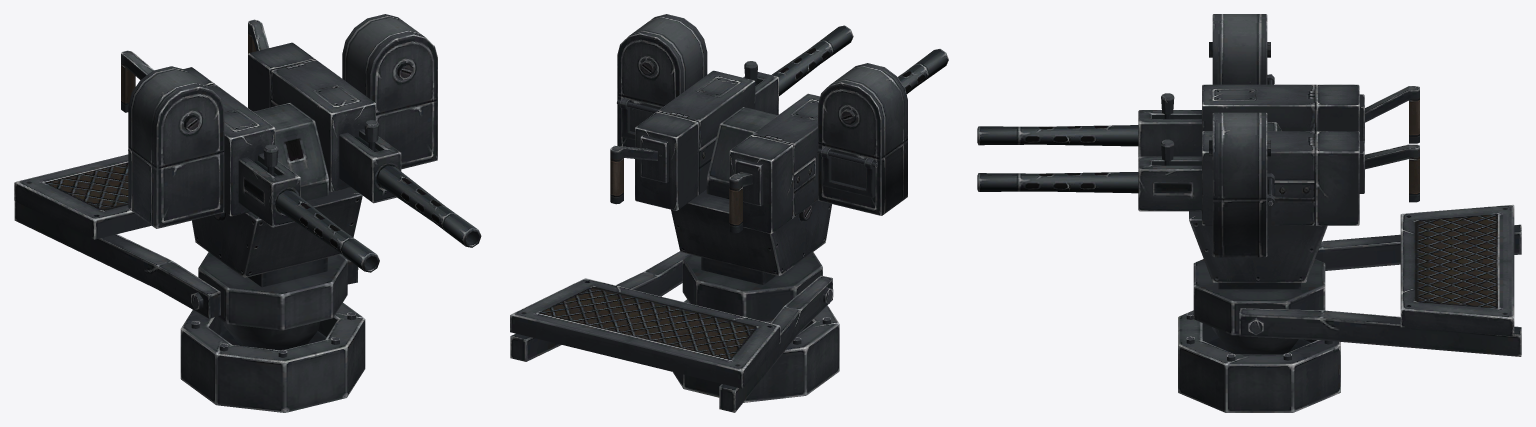
The model's file is AntiAirCraftGun.obj.
3 views of the same model, side by side, from view 1: azimuth 30°, elevation 25°; view 2: azimuth 150°, elevation 25°; view 3: azimuth 270°, elevation 25° (orthographic). The views are drawn at different scales.
Parts seen in each view (by area): view 1: canon_t_ncl2_, canon_b; view 2: canon_t_ncl2_, canon_b; view 3: canon_t_ncl2_, canon_b.
Boxes of the visible parts, x1,y1,x2,y2 form: canon_t_ncl2_: [14, 14, 481, 350]; canon_b: [180, 303, 365, 412]; canon_t_ncl2_: [510, 14, 948, 412]; canon_b: [673, 299, 839, 402]; canon_t_ncl2_: [977, 14, 1521, 356]; canon_b: [1178, 310, 1340, 412].
Size of the model in its own units: 1.66 by 1.85 by 2.93.
3 materials, 3 textured.
